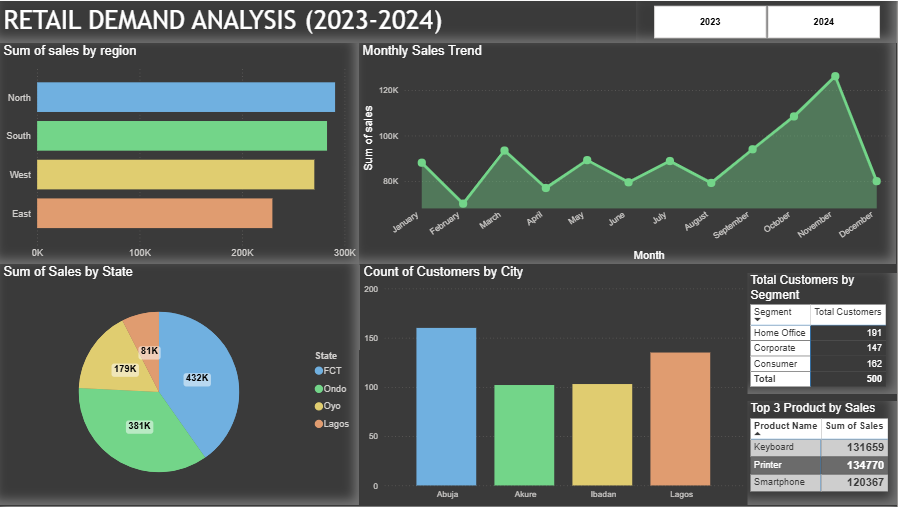

The dashboard page shown, as its layout file describes it:
{"tool":"powerbi","page":{"name":"Page 1","canvas":[1280,720],"ordinal":0},"visuals":[{"type":"clusteredBarChart","fields":{"Category":["orders.region"],"Y":["Sum(orders.sales)"]},"box":[0,59.7,512.7,316],"z":0},{"type":"pieChart","fields":{"Category":["customers.state"],"Y":["Sum(orders.sales)"]},"box":[0,375.7,512.7,344.1],"z":1000},{"type":"lineChart","title":"Monthly Sales Trend","fields":{"Y":["Sum(orders.sales)"],"Category":["orders.order_date.Variation.Date Hierarchy.Month"]},"box":[512.7,59.7,767.3,316],"z":2000},{"type":"textbox","box":[0,0,1280,59.7],"z":3000},{"type":"slicer","fields":{"Values":["orders.order_date.Variation.Date Hierarchy.Year"]},"box":[907.8,0,372.2,59.7],"z":4000},{"type":"pivotTable","title":"Top 3 Product by Sales","fields":{"Rows":["products.product_name"],"Values":["Sum(orders.sales)"]},"box":[1066,570.8,214,148.4],"z":5000},{"type":"pivotTable","title":"Total Customers by Segment","fields":{"Rows":["customers.segment"],"Values":["CountNonNull(orders.customer_id)"]},"box":[1066,388.1,214,172.7],"z":5001},{"type":"columnChart","title":"Count of Customers by City","fields":{"Category":["customers.city"],"Y":["CountNonNull(orders.customer_id)"]},"box":[513,376,553,344],"z":5002}]}

Visuals, with their boxes in screenshot pixels (x1, y1, x2, y2), scaled from the page's 1280x720 canvas onto the 898x507 screenshot:
clusteredBarChart - orders.region x Sum(orders.sales): detection(0, 42, 360, 265)
pieChart - customers.state x Sum(orders.sales): detection(0, 265, 360, 506)
"Monthly Sales Trend" lineChart: detection(360, 42, 897, 265)
textbox: detection(0, 0, 897, 42)
slicer - orders.order_date.Variation.Date Hierarchy.Year: detection(637, 0, 897, 42)
"Top 3 Product by Sales" pivotTable: detection(748, 402, 897, 506)
"Total Customers by Segment" pivotTable: detection(748, 273, 897, 395)
"Count of Customers by City" columnChart: detection(360, 265, 748, 506)
